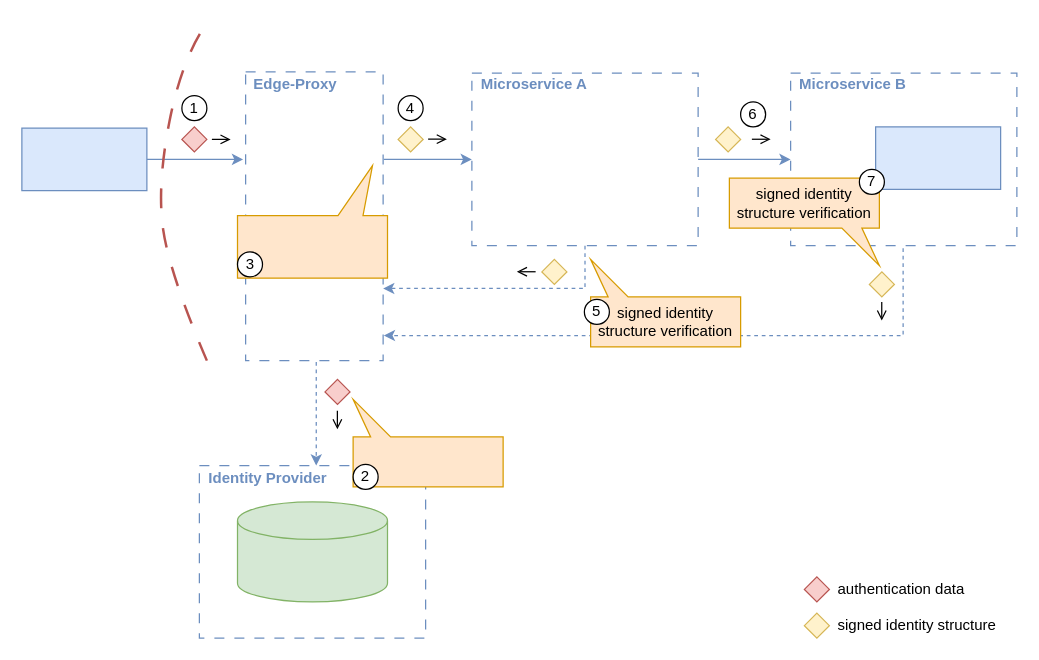
This 1039x660 diagram has some shape labels left out. Here are the shapes that lost their labels. From the top down, the box of each, then its label:
(21, 127, 147, 191): Some Client «Subject»
(874, 126, 1001, 189): Some Entity «Object»
(236, 164, 388, 278): issuance of the signed identity structure
(352, 398, 503, 487): authentication data verification
(236, 501, 388, 602): Identity Store
